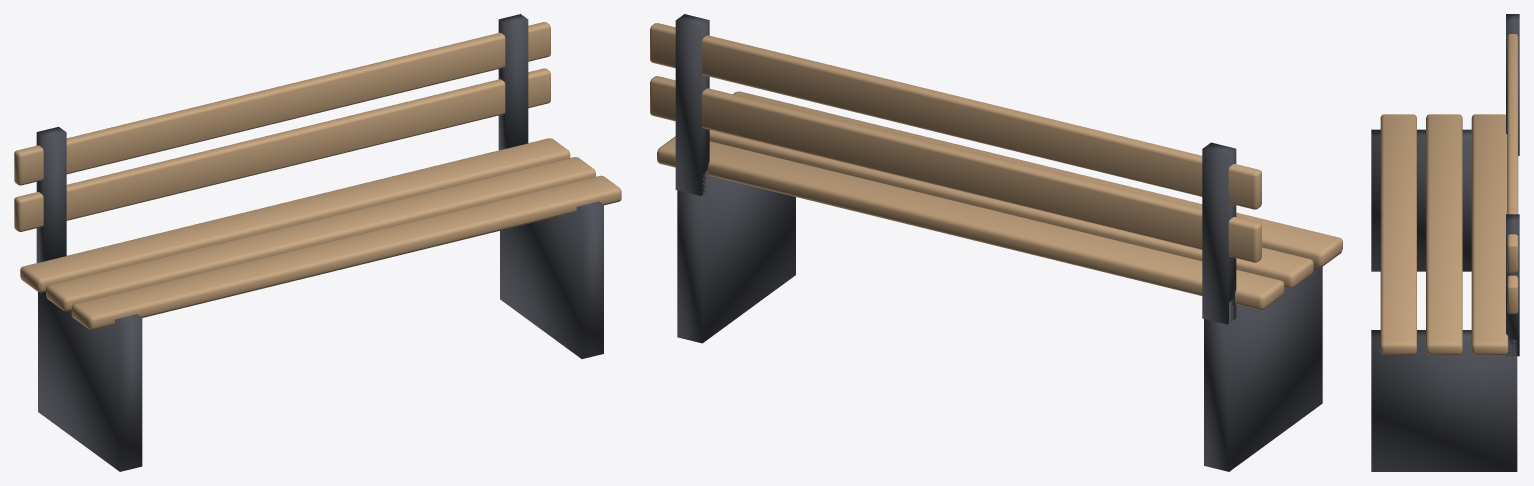
File: Bench.fbx
3 views of the same model, side by side, from view 1: azimuth 30°, elevation 25°; view 2: azimuth 150°, elevation 25°; view 3: azimuth 270°, elevation 25° (orthographic). The views are drawn at different scales.
Parts seen in each view (by area): view 1: Wood.001, Dark.008; view 2: Wood.001, Dark.008; view 3: Wood.001, Dark.008.
Boxes of the visible parts, left/top/right/bottom form: Wood.001: left=14, top=22, right=621, bottom=329; Dark.008: left=36, top=14, right=603, bottom=471; Wood.001: left=650, top=23, right=1342, bottom=310; Dark.008: left=675, top=14, right=1322, bottom=471; Wood.001: left=1380, top=34, right=1518, bottom=354; Dark.008: left=1371, top=14, right=1519, bottom=471.
Bounding box in the file's own units: 6 × 3 × 1.62.
